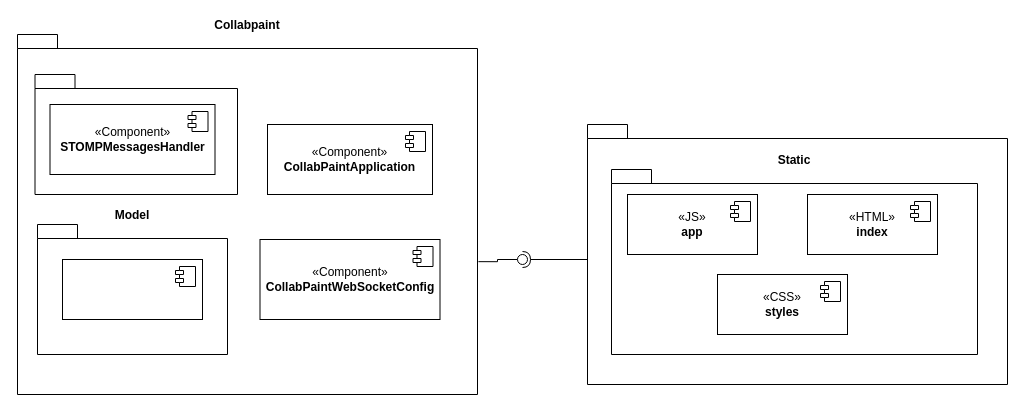
This 1025x412 diagram has some shape labels left out. The shapes that lost their labels are listed below. From the top down, each one's box as (x1, y1, x2, y2) in pixels, then its label:
(34, 74, 238, 194): Controllers
(586, 124, 1008, 384): Resources
(62, 258, 202, 320): «Component» Point
